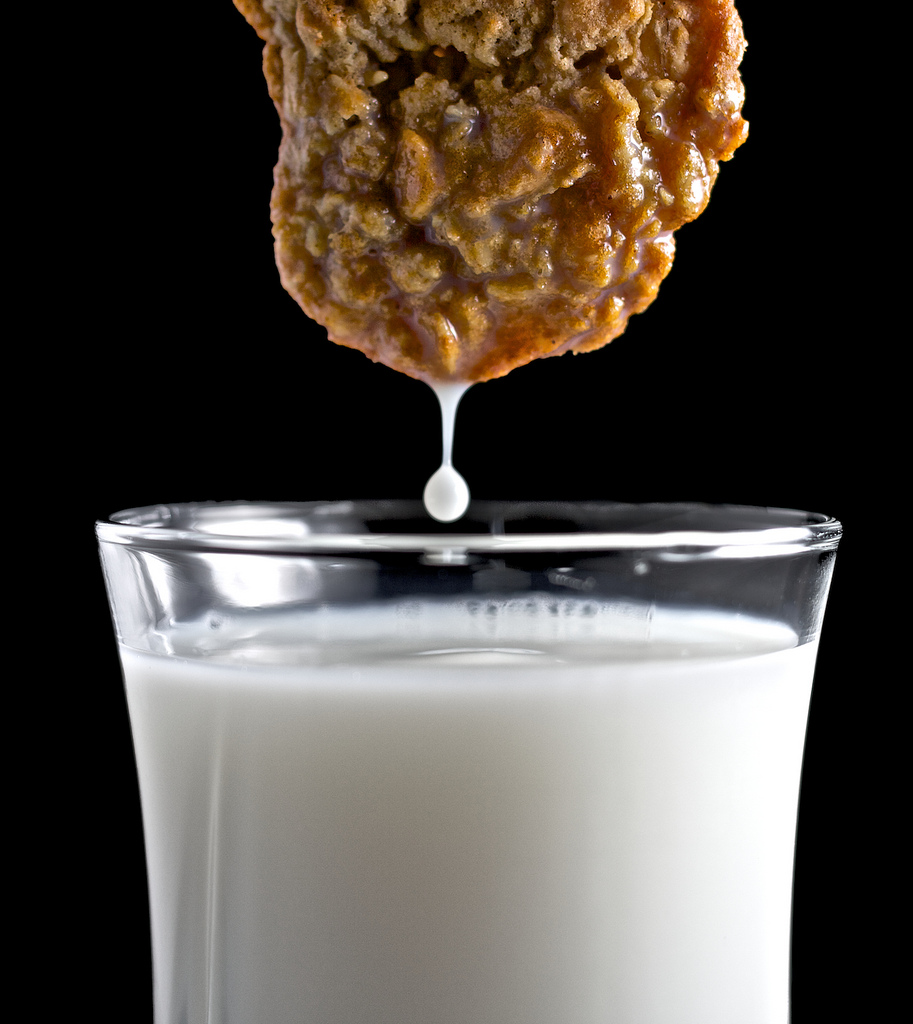glass of milk: (95, 500, 838, 1024)
